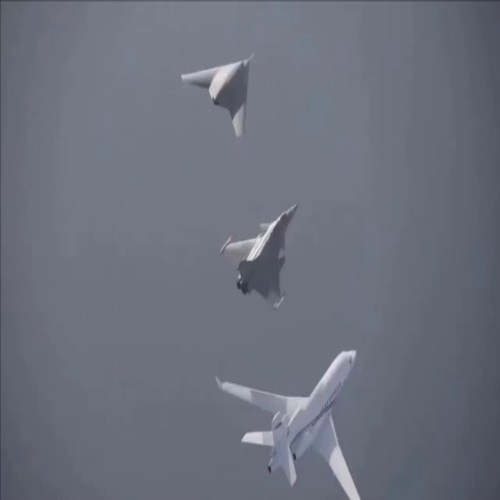uav: (177, 43, 253, 138)
